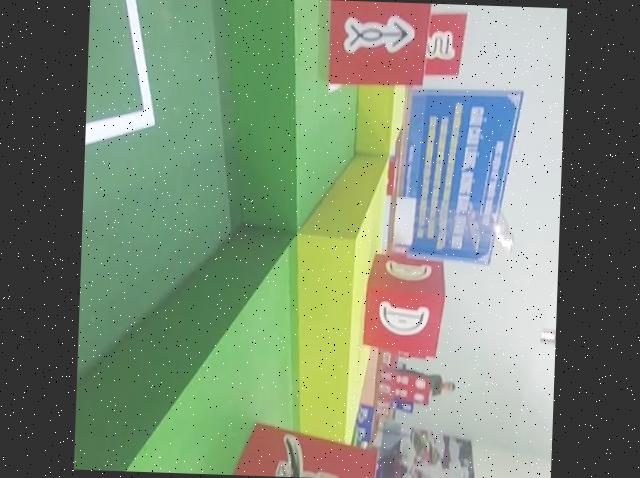R1: (198, 421, 378, 478)
R2 Fake: (400, 9, 471, 77)
R2 Real: (327, 0, 436, 89), (359, 250, 447, 357)
